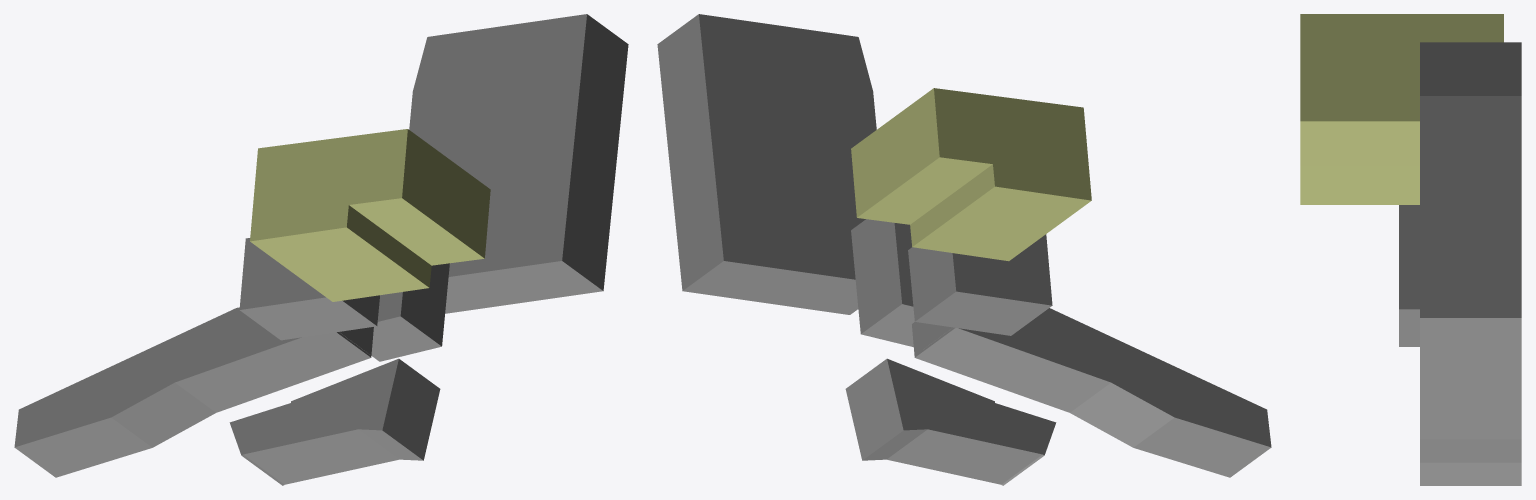
3 views of the same model, side by side, from view 1: azimuth 30°, elevation 25°; view 2: azimuth 150°, elevation 25°; view 3: azimuth 270°, elevation 25° (orthographic). The views are drawn at different scales.
Parts seen in each view (by area): view 1: 0_1_2_0_1_0_1_1_1_1; view 2: 0_1_2_0_1_0_1_1_1_1; view 3: 0_1_2_0_1_0_1_1_1_1.
Boxes of the visible parts, x1,y1,x2,y2 form: 0_1_2_0_1_0_1_1_1_1: (14, 14, 628, 485); 0_1_2_0_1_0_1_1_1_1: (657, 14, 1271, 485); 0_1_2_0_1_0_1_1_1_1: (1300, 14, 1521, 485).
Size of the model in its own units: 23.95 by 15.28 by 6.52.
